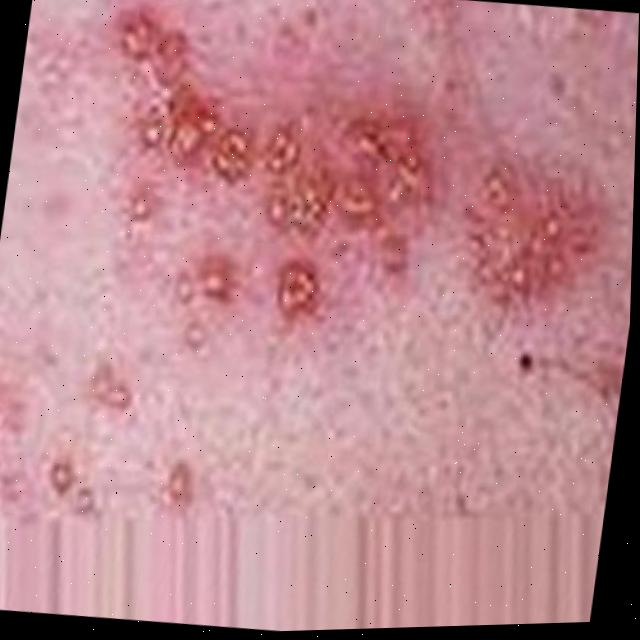Shingles: (83, 12, 428, 324), (443, 188, 564, 301)
